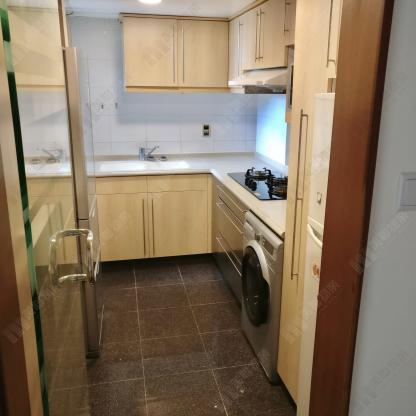Cupboard: (90, 174, 249, 295), (121, 0, 296, 90)
Exhaust Hood: (226, 67, 290, 95), (226, 67, 287, 95)
Faucet: (136, 145, 162, 158)
Fridge: (297, 92, 338, 415)
Sink: (95, 157, 199, 174), (105, 161, 195, 174)
Stove: (216, 164, 288, 211), (226, 167, 290, 202)
Washing Machine: (240, 209, 284, 384)
